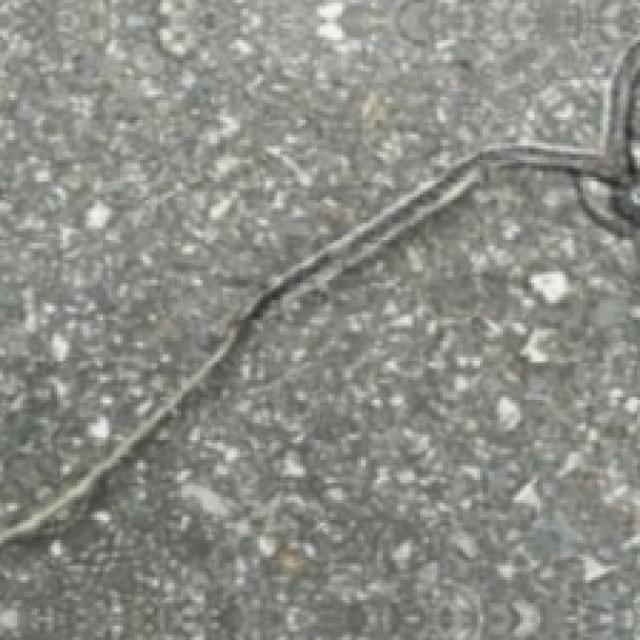king cobra: (0, 0, 637, 523), (0, 169, 637, 637)
